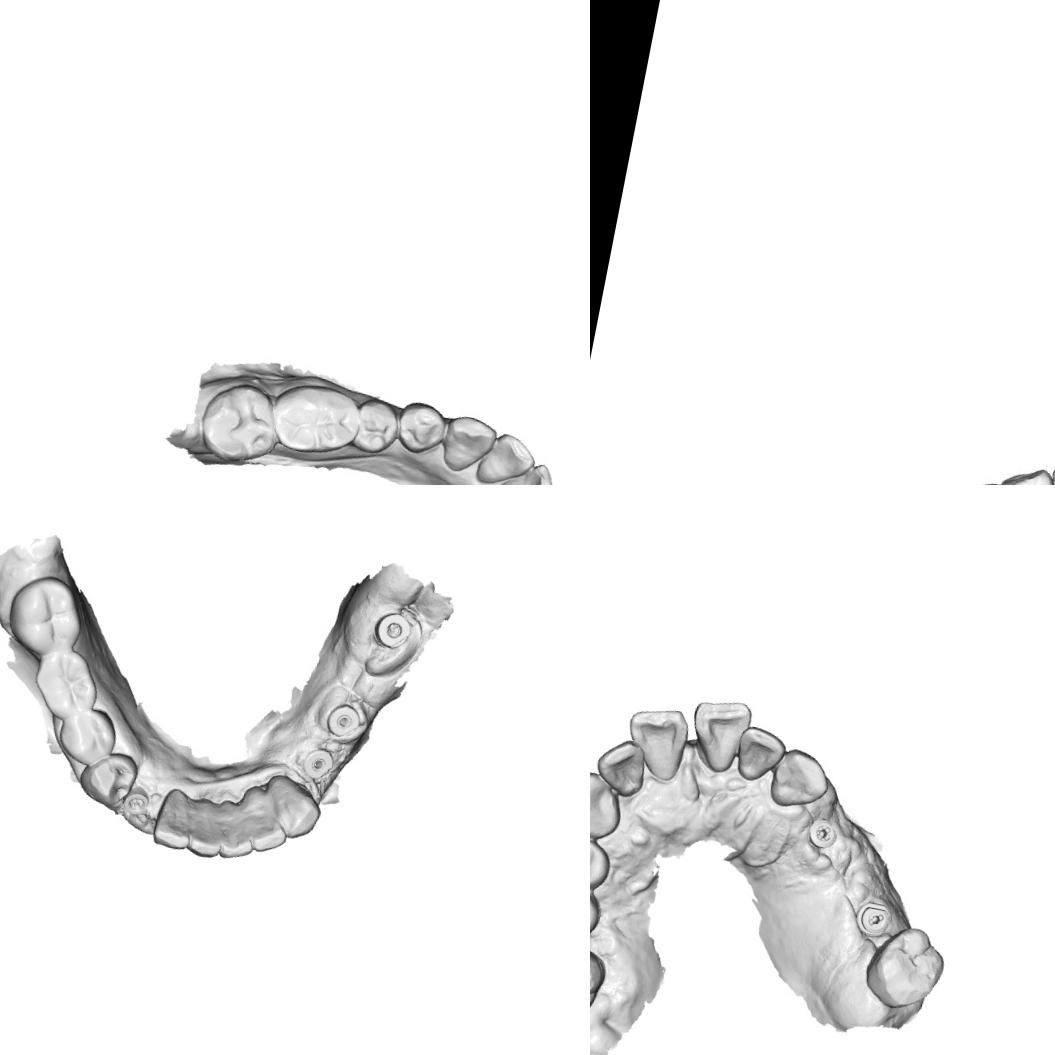canine: (253, 768, 326, 844), (765, 742, 835, 815), (435, 410, 499, 480), (590, 765, 628, 844)
implant: (368, 606, 414, 652), (321, 698, 364, 744), (300, 742, 340, 783), (117, 783, 153, 823)
implant_minus: (852, 898, 894, 941)
implant_plus: (804, 814, 841, 852)
incisor: (618, 700, 693, 785), (682, 692, 756, 778), (590, 732, 652, 800), (730, 722, 790, 788), (180, 791, 234, 860), (474, 428, 539, 485), (146, 784, 200, 852), (236, 804, 292, 856), (216, 802, 260, 862), (491, 454, 557, 485), (992, 458, 1055, 485)
molar: (0, 567, 93, 665), (268, 375, 365, 464), (192, 376, 282, 470), (859, 922, 948, 1017), (26, 642, 105, 728), (590, 930, 611, 1022)
premolar: (72, 744, 143, 815), (51, 702, 121, 772), (391, 395, 452, 459), (351, 396, 401, 456), (590, 828, 616, 894)
